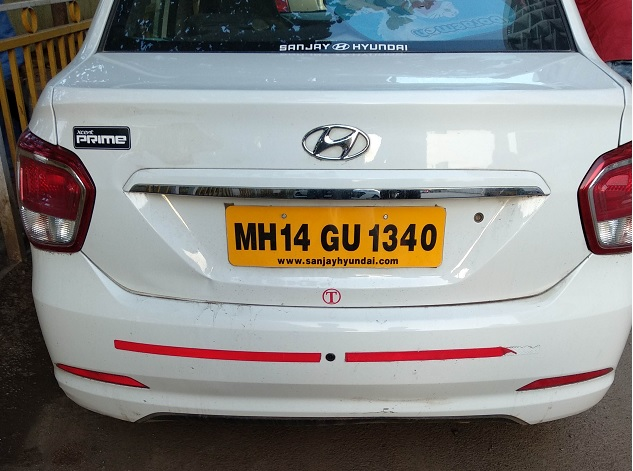licenseplate: (224, 204, 451, 273)
